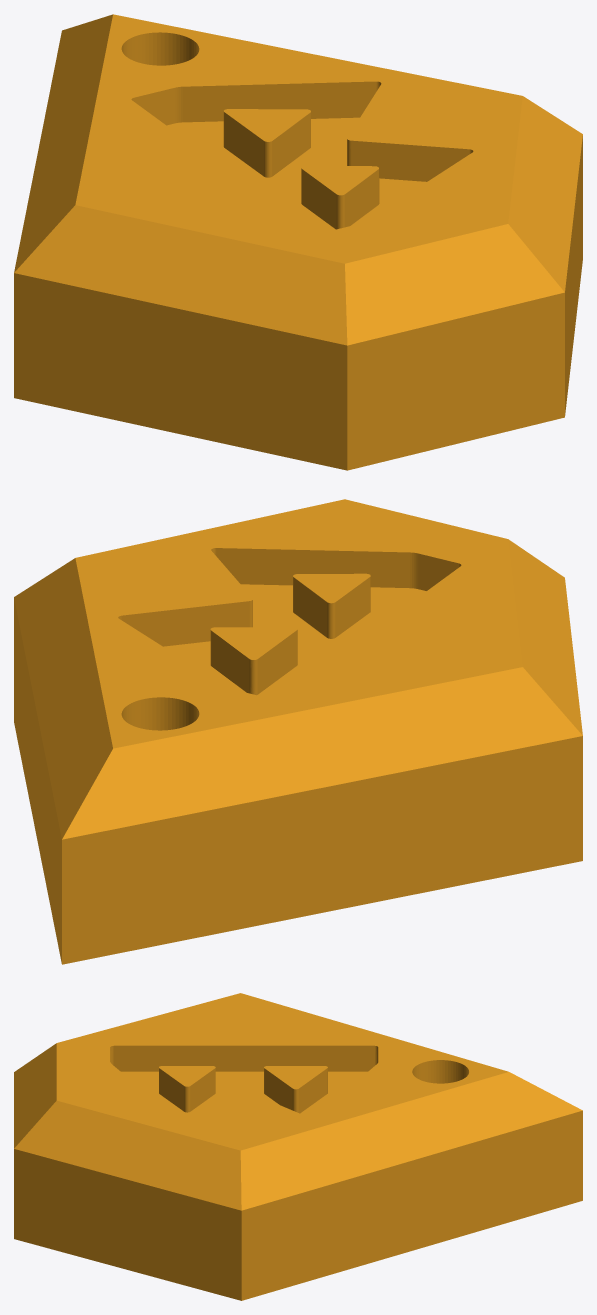
File: claim_stone.glb
3 renders of one model, top to bottom at view 1: azimuth 30°, elevation 25°; view 2: azimuth 150°, elevation 25°; view 3: azimuth 270°, elevation 25°, orthographic. The views are drawn at different scales.
Parts seen in each view (by area): view 1: claim_stone; view 2: claim_stone; view 3: claim_stone.
Part boxes in pixels (x1=…): claim_stone: x1=14, y1=14, x2=582, y2=470; claim_stone: x1=14, y1=499, x2=582, y2=964; claim_stone: x1=14, y1=993, x2=582, y2=1300.
Size of the model in its own units: 0.5 by 0.15 by 0.6.
